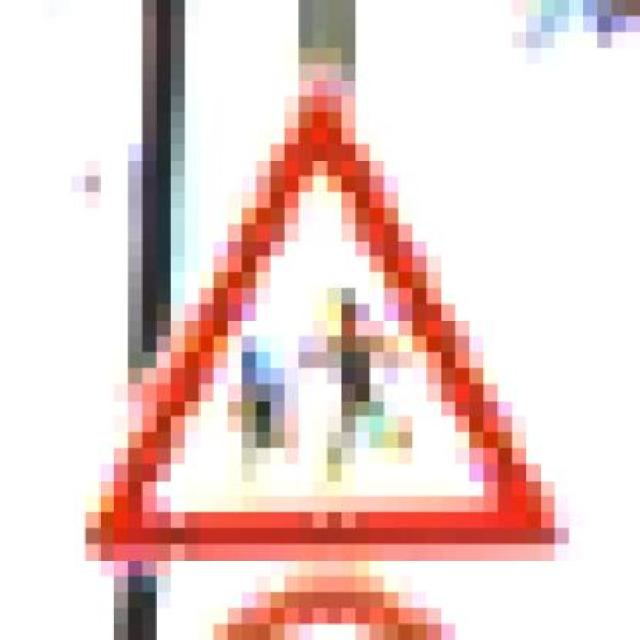Beware of children: (42, 65, 598, 560)
